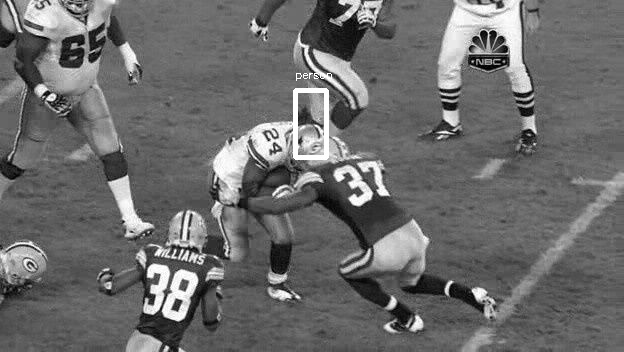person: (288, 123, 321, 165), (287, 123, 320, 165), (289, 123, 322, 165), (288, 122, 321, 164), (288, 124, 321, 166)
target_negative: (63, 262, 432, 300), (389, 73, 573, 122), (180, 102, 198, 186), (392, 50, 418, 102), (592, 94, 619, 124), (585, 34, 590, 61)
